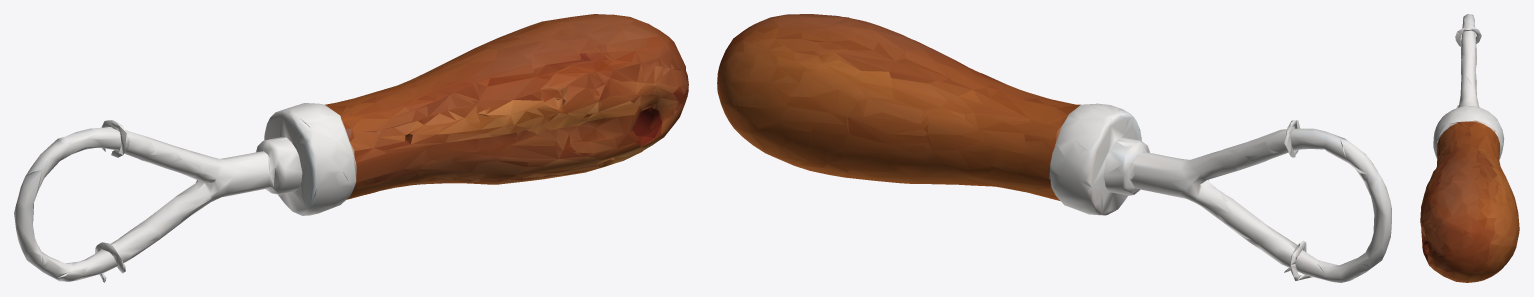
Rendered from tool_carve.glb.
The picture shows the model from 3 angles, left to right: view 1: azimuth 30°, elevation 25°; view 2: azimuth 150°, elevation 25°; view 3: azimuth 270°, elevation 25°; orthographic projection. The views are drawn at different scales.
Parts seen in each view (by area): view 1: geometry_0; view 2: geometry_0; view 3: geometry_0.
Part boxes in pixels (x1=…): geometry_0: x1=14, y1=14, x2=688, y2=282; geometry_0: x1=717, y1=14, x2=1391, y2=282; geometry_0: x1=1420, y1=14, x2=1519, y2=282.
Bounding box in the file's own units: 0.11 × 0.0249 × 0.0223.
Materials: 1 (1 with a texture image).
